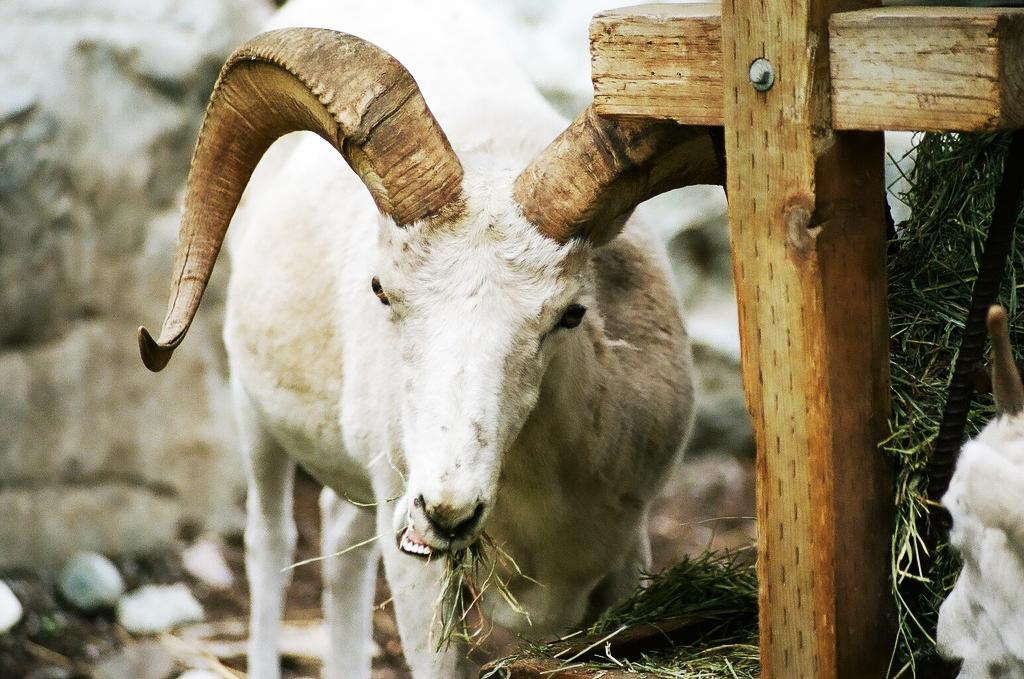Sheep: (139, 0, 720, 678), (934, 301, 1024, 678)
